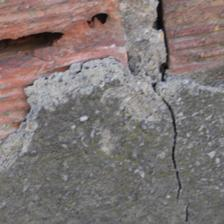Crack: (0, 0, 89, 66), (97, 142, 224, 186)
